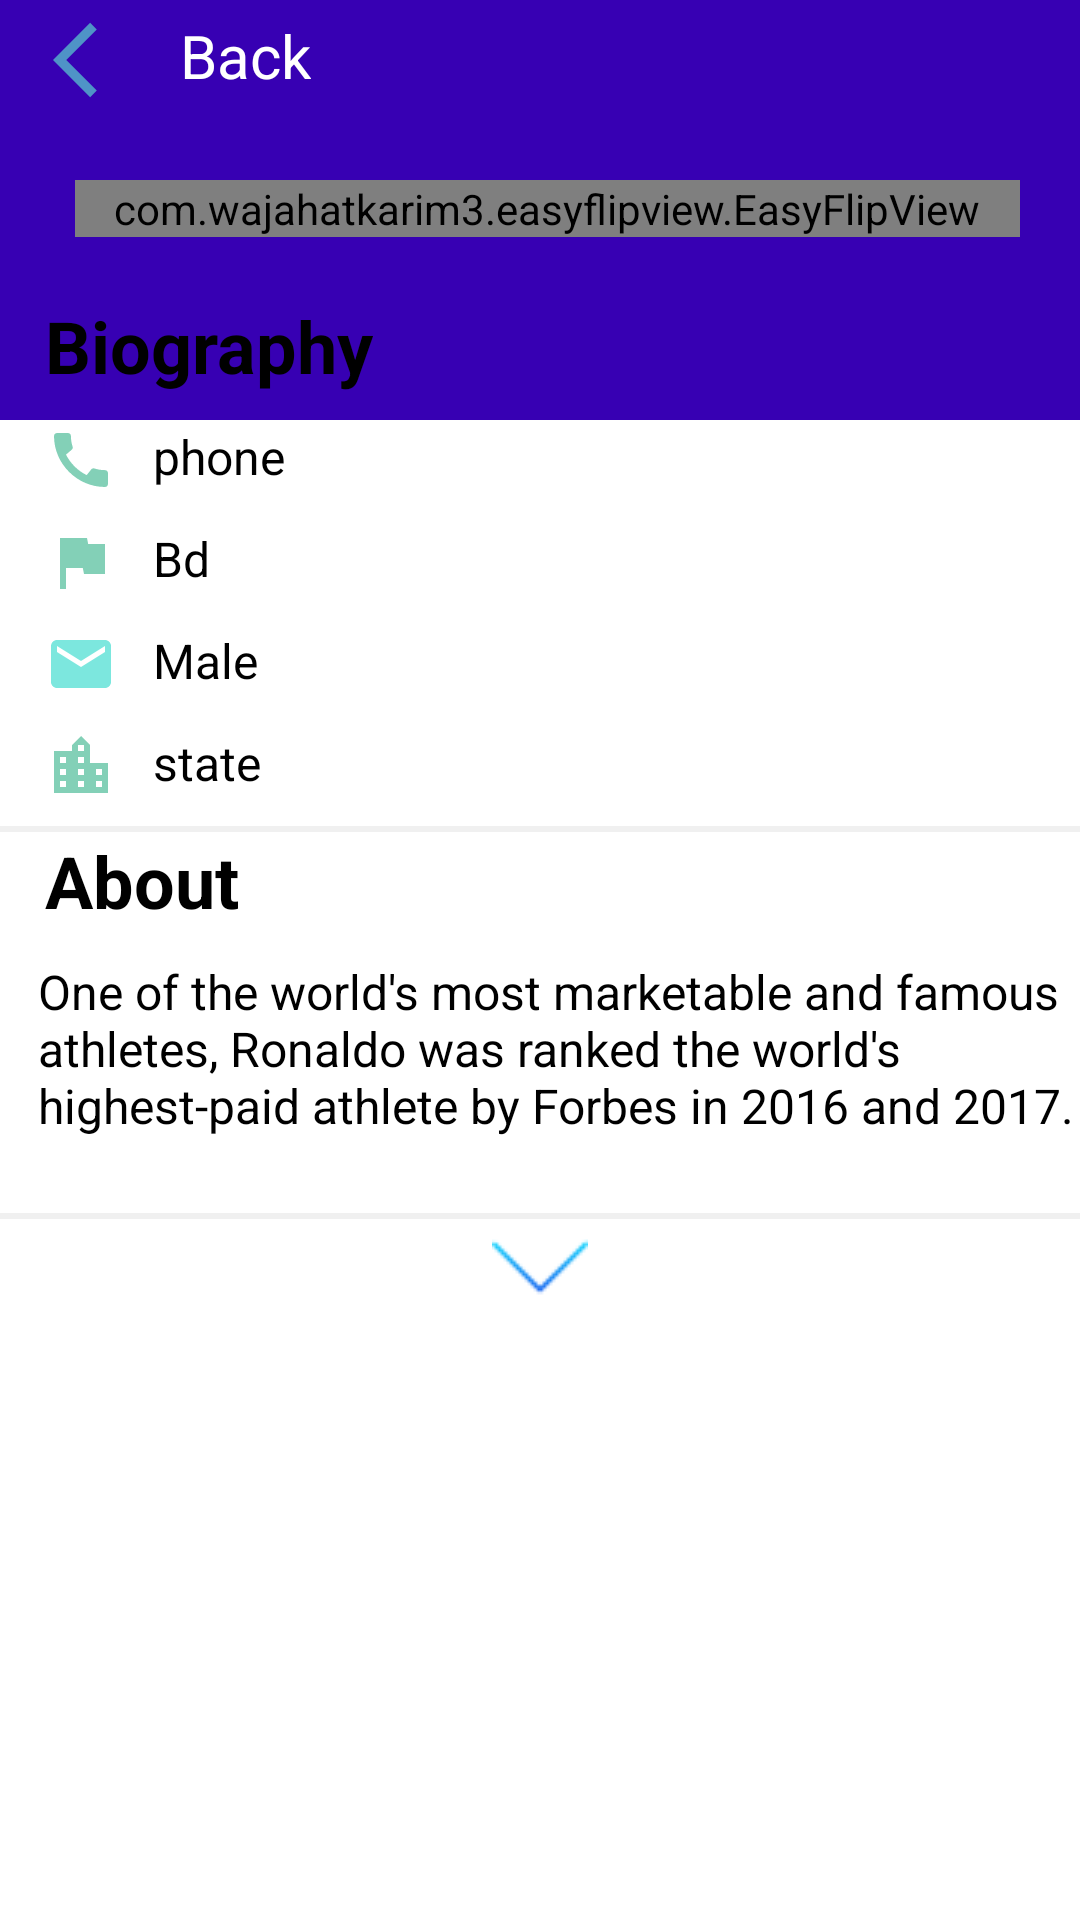

Where to tap for icons on this 1080 x 1920 app screen, as (x,y):
downarrow: (540,1266)
